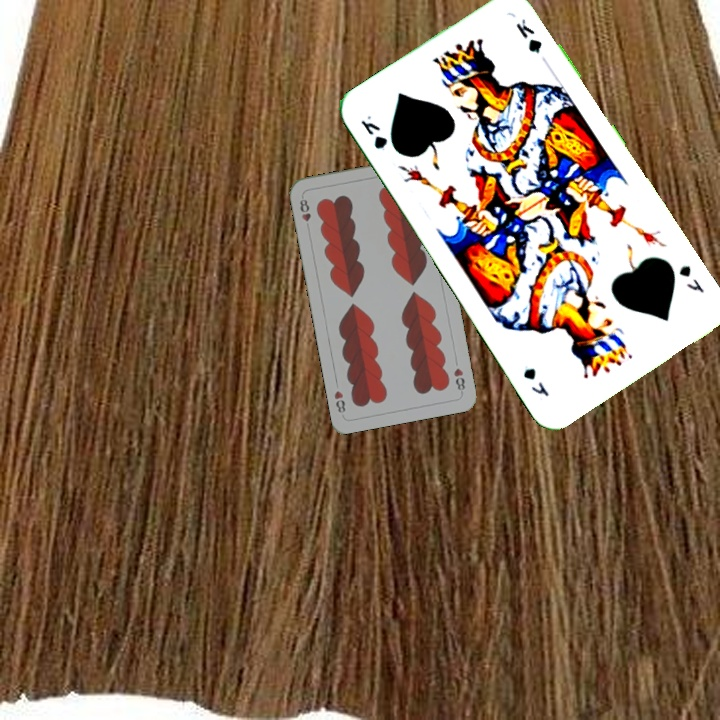GK: (356, 110, 390, 154), (674, 261, 707, 296)
H8: (296, 195, 313, 233), (450, 364, 468, 396)
